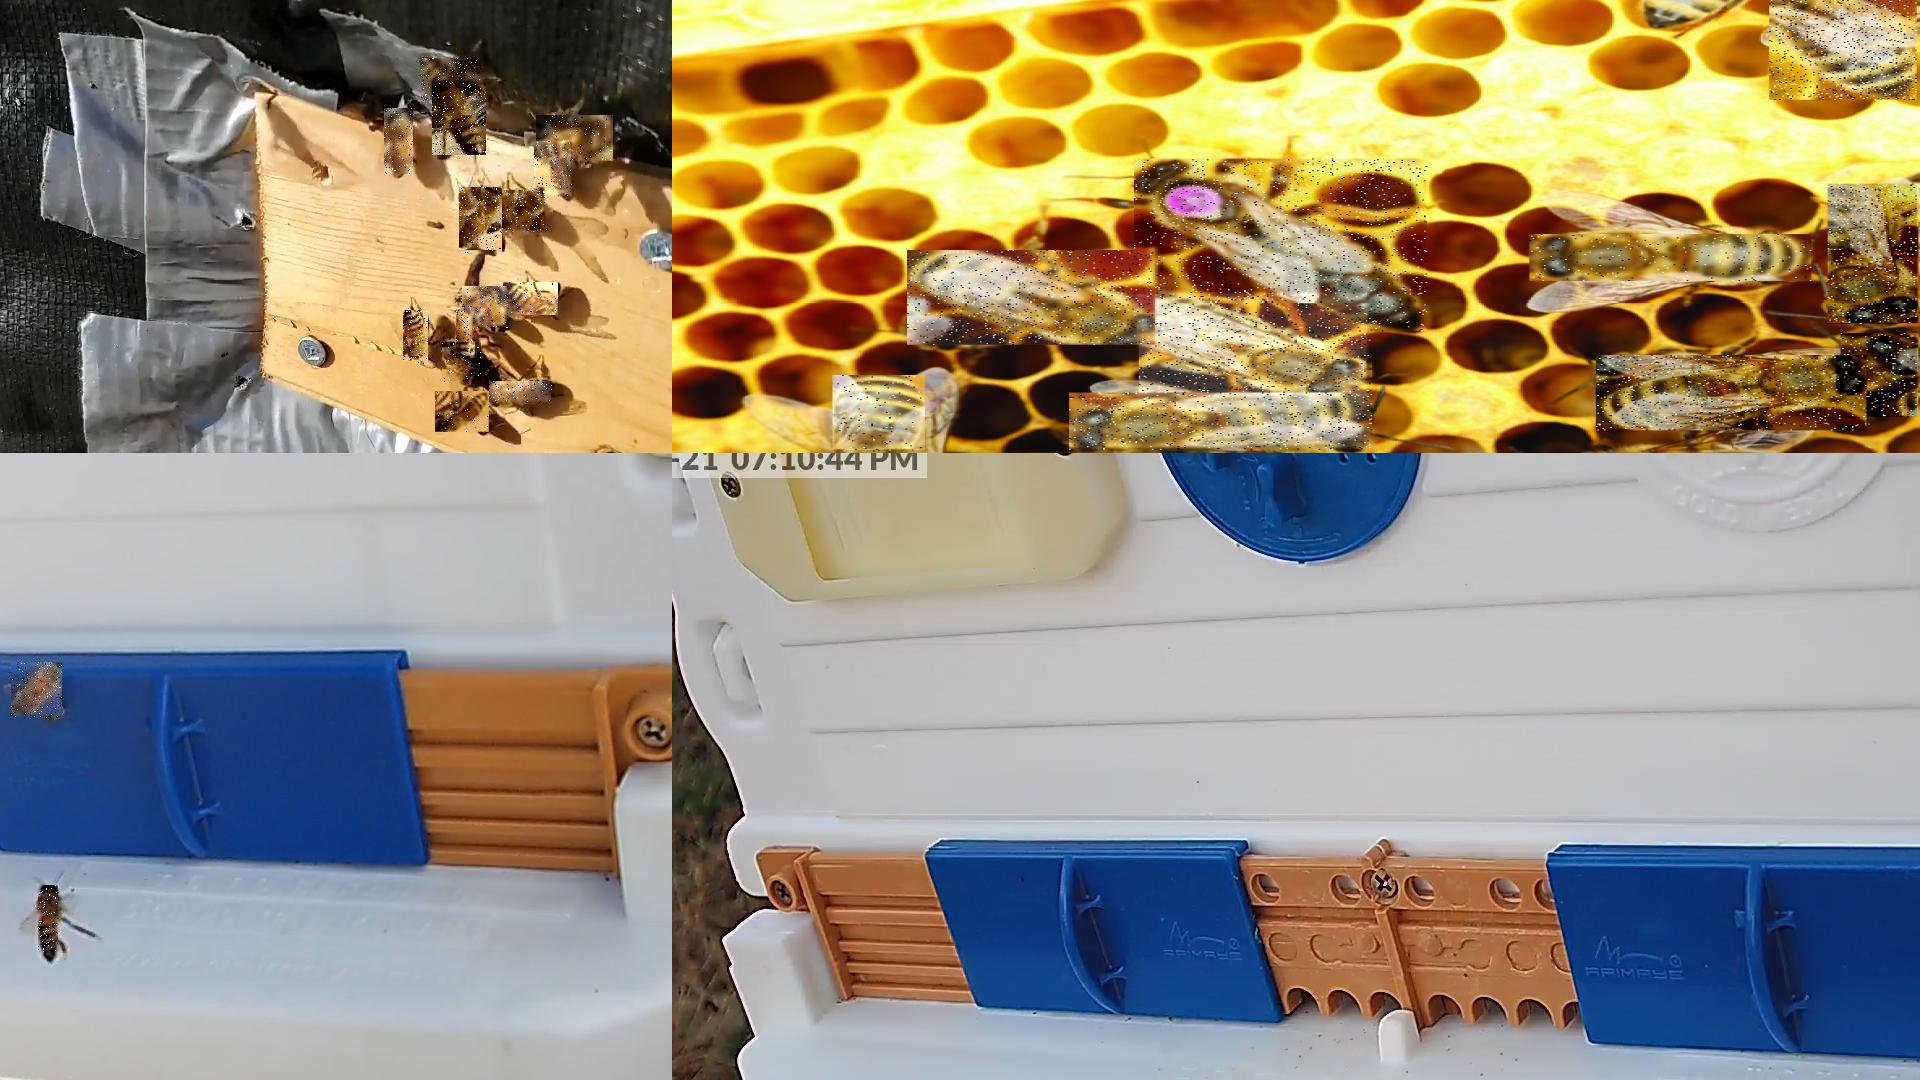bee: (1140, 294, 1374, 399), (908, 250, 1163, 346), (1598, 355, 1874, 431), (1071, 393, 1375, 451), (1770, 0, 1918, 101), (1530, 234, 1813, 282), (1828, 184, 1918, 324), (833, 376, 928, 452), (1840, 333, 1918, 418), (432, 83, 487, 156), (536, 115, 614, 162), (11, 663, 63, 720), (459, 188, 503, 255), (485, 191, 549, 234), (421, 59, 482, 103), (435, 391, 490, 433), (535, 142, 575, 199), (463, 287, 510, 330), (384, 108, 414, 175), (503, 282, 559, 316), (442, 343, 482, 385), (490, 382, 554, 405), (38, 886, 59, 956), (403, 311, 429, 366), (457, 309, 477, 362)
queen: (1136, 159, 1430, 333)
